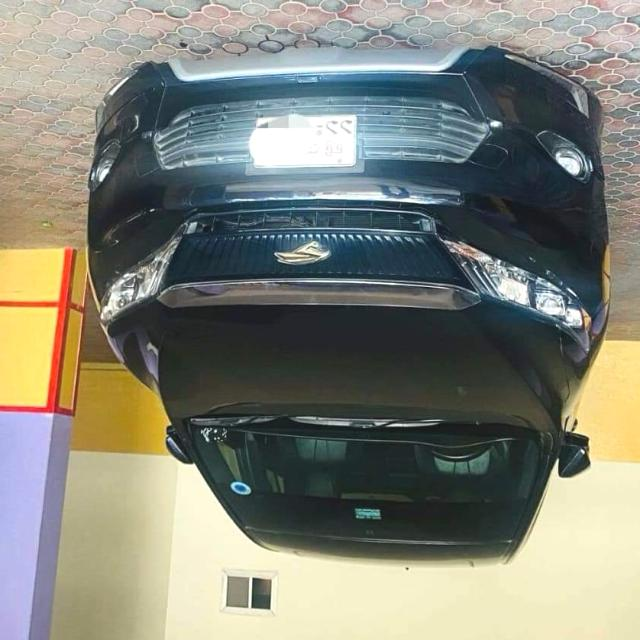black: (103, 63, 609, 564)
